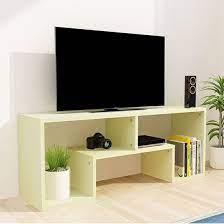TV: (48, 26, 170, 113)
console: (12, 110, 214, 205)
